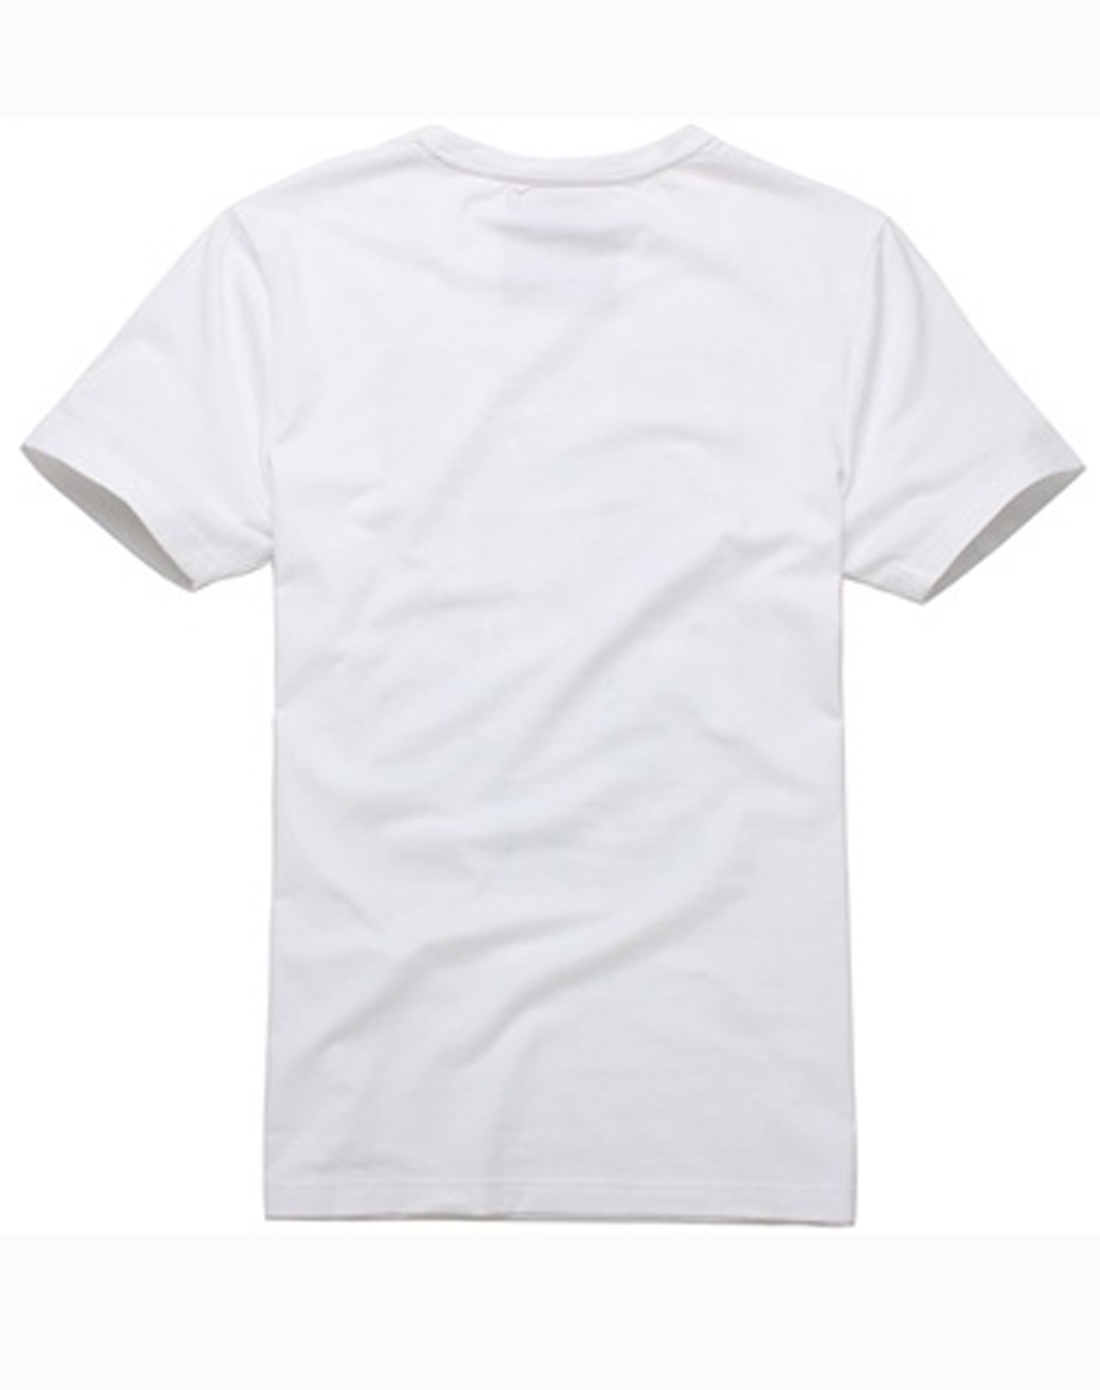flexible: (21, 124, 1084, 1226)
